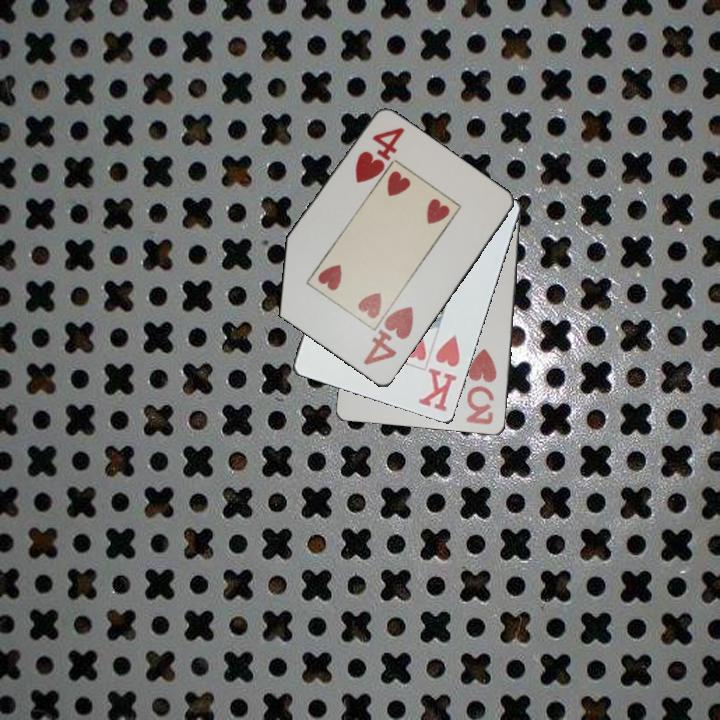3h: (463, 345, 500, 428)
4h: (360, 303, 417, 368), (351, 124, 408, 187)
Kh: (415, 330, 463, 415)
